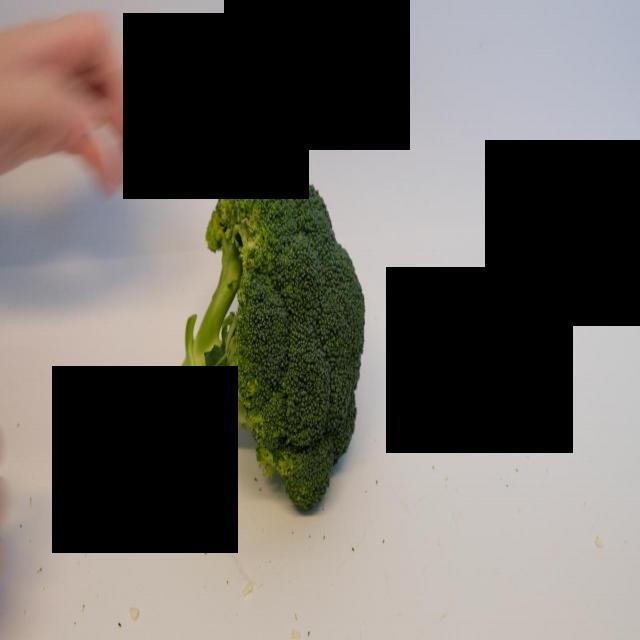broccoli: (177, 164, 368, 514)
